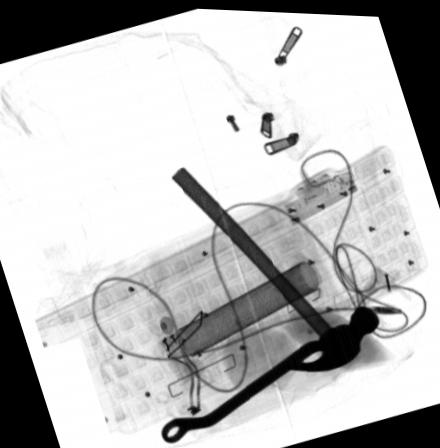Hammer: (170, 165, 380, 370)
Wrench: (160, 323, 353, 442)
